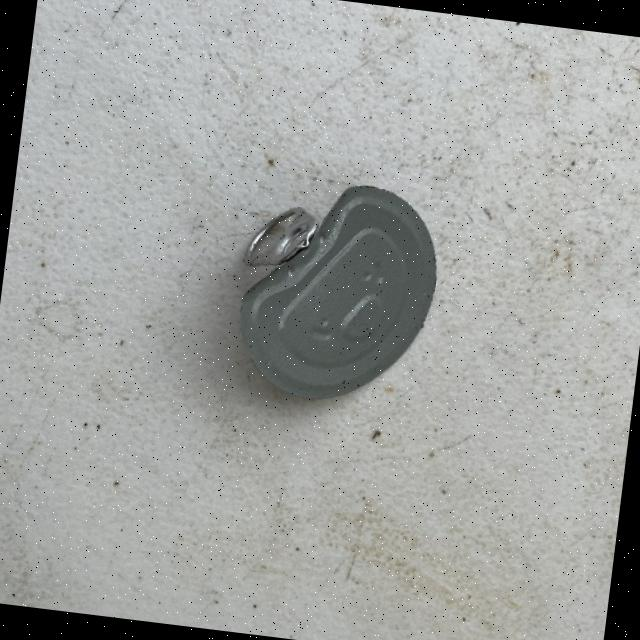metal: (227, 170, 446, 412)
